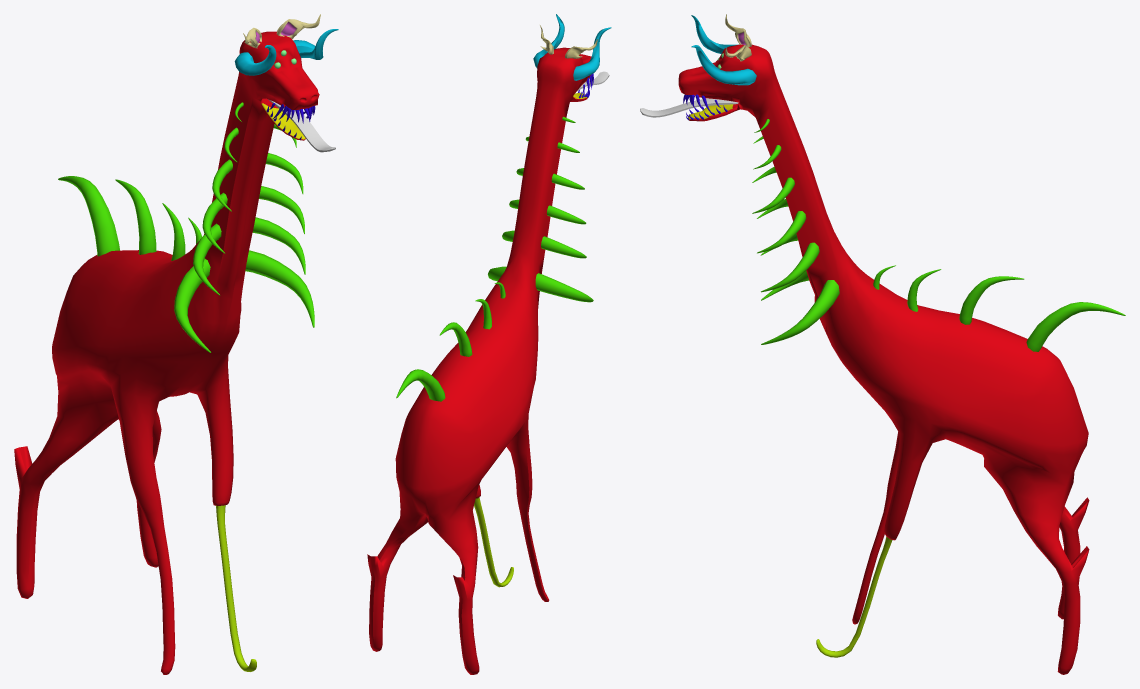
File: giraffe.fbx
The picture shows the model from 3 angles, left to right: view 1: azimuth 30°, elevation 25°; view 2: azimuth 150°, elevation 25°; view 3: azimuth 270°, elevation 25°; orthographic projection. The views are drawn at different scales.
Visible parts, largest first — view 1: giraffe, tongue; view 2: giraffe; view 3: giraffe.
Part boxes in pixels (x1,y1,x2,y2): giraffe: (14,14,338,674); tongue: (268,99,335,152); giraffe: (367,14,611,674); giraffe: (678,14,1125,674).
Bounding box in the file's own units: 47.61 × 223 × 160.
